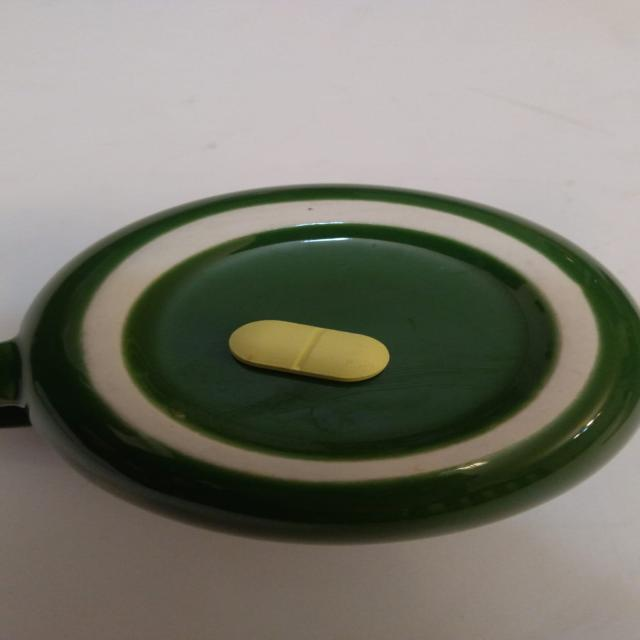pills: (211, 311, 401, 385)
